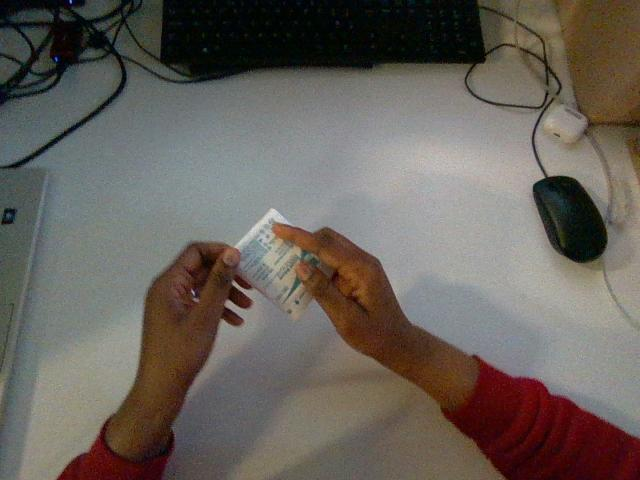gauze: (235, 209, 330, 319)
